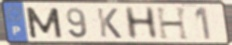1: (192, 6, 212, 42)
9: (65, 7, 89, 40)
H: (122, 6, 160, 41), (154, 6, 191, 41)
K: (95, 7, 123, 40)
M: (23, 6, 65, 39)
